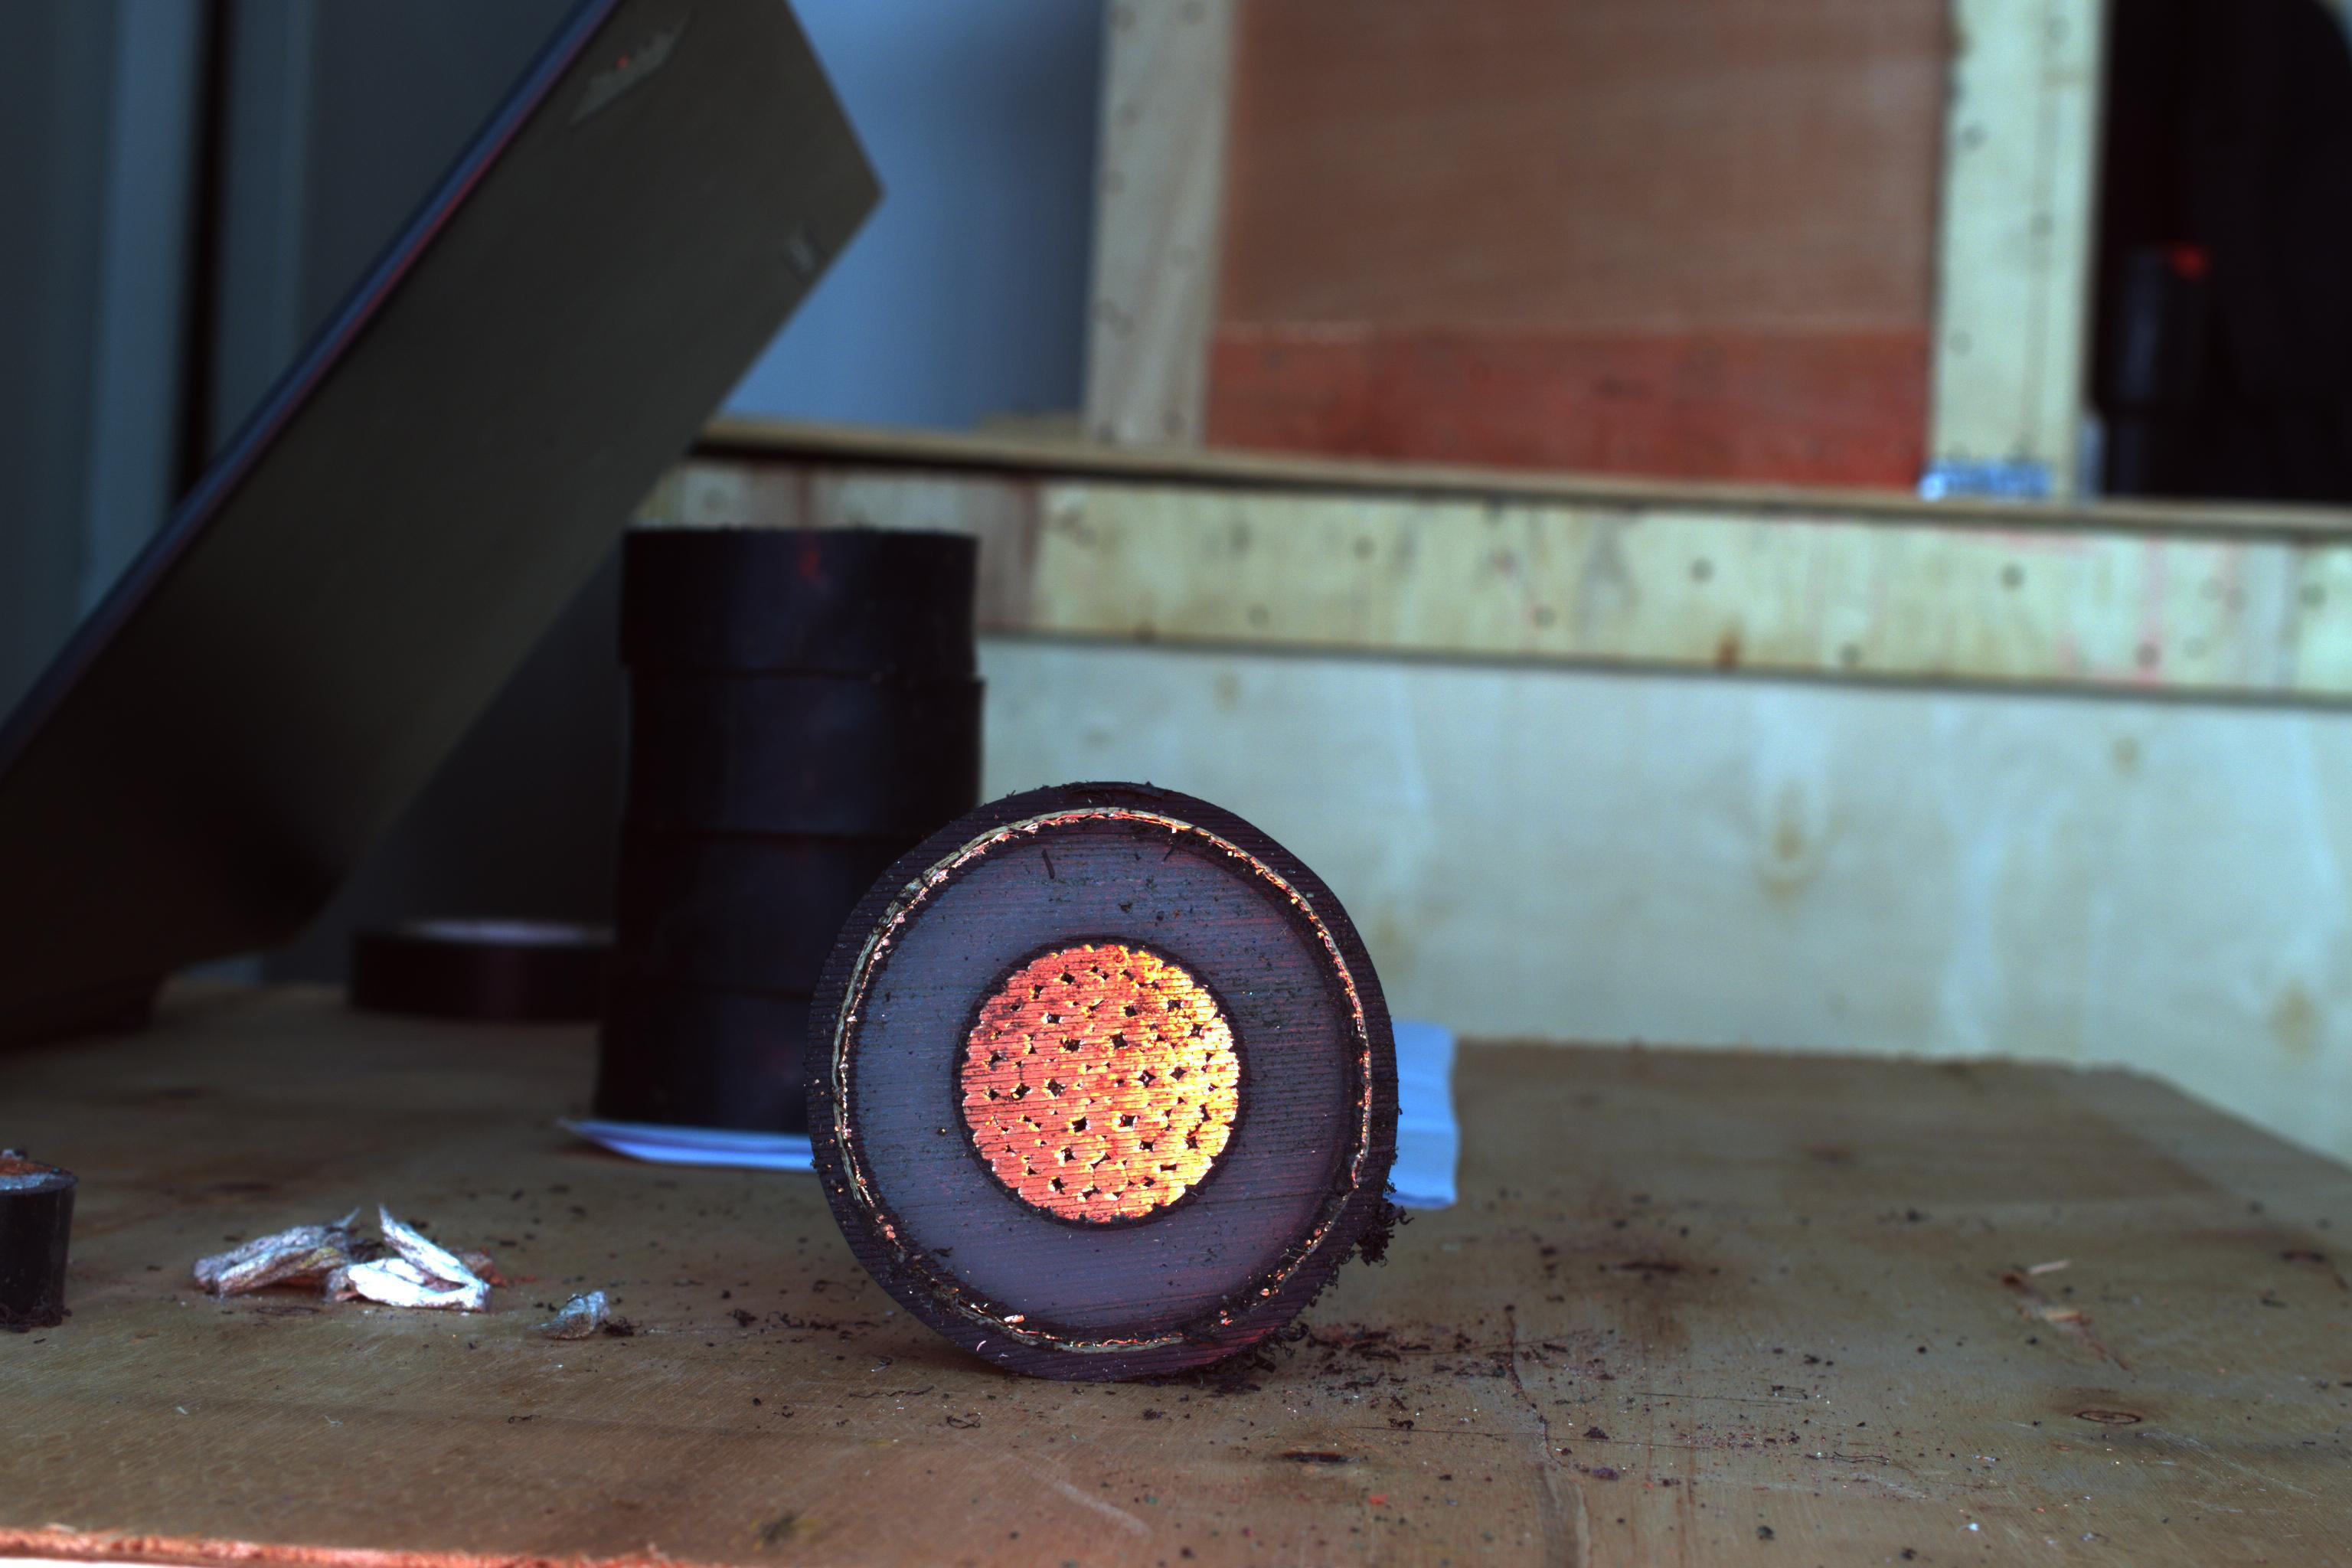YJV_26_35kV_1x630: (798, 782, 1419, 1379)
